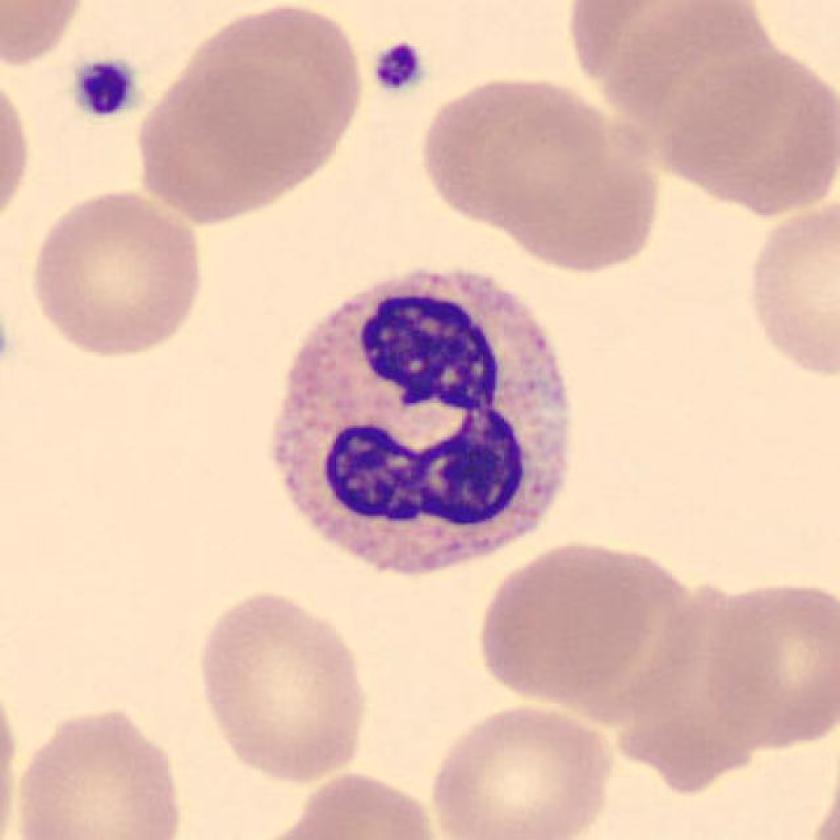neutrophil: (274, 271, 569, 576)
